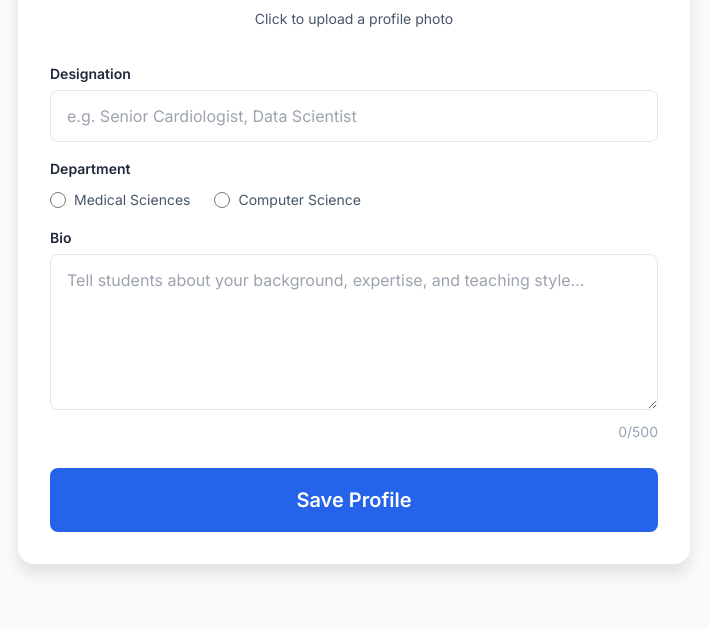
Test: TeacherOnboarding › validation › shows designation error when field is empty
(page scrolled)
Step 1. Click the button "Save Profile" → (354, 500), box 50,468 -> 658,532
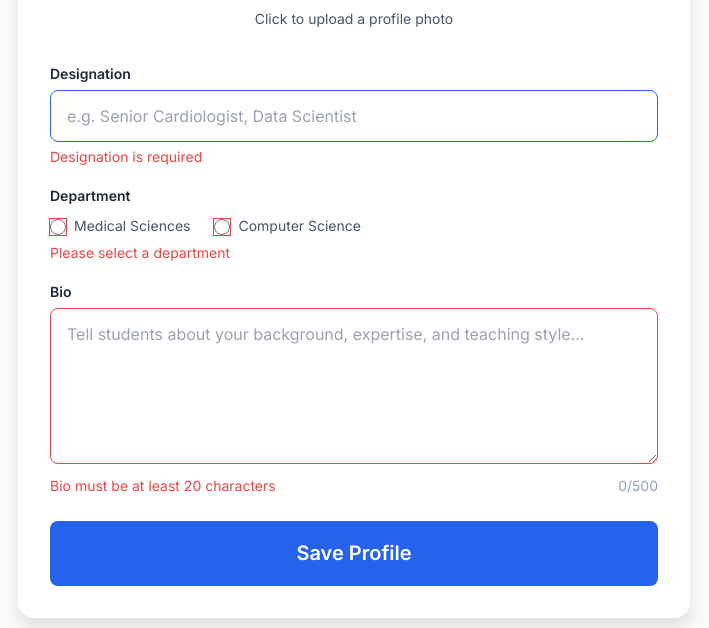
Now the text "Designation is required" is shown, box 50,148 -> 202,165
